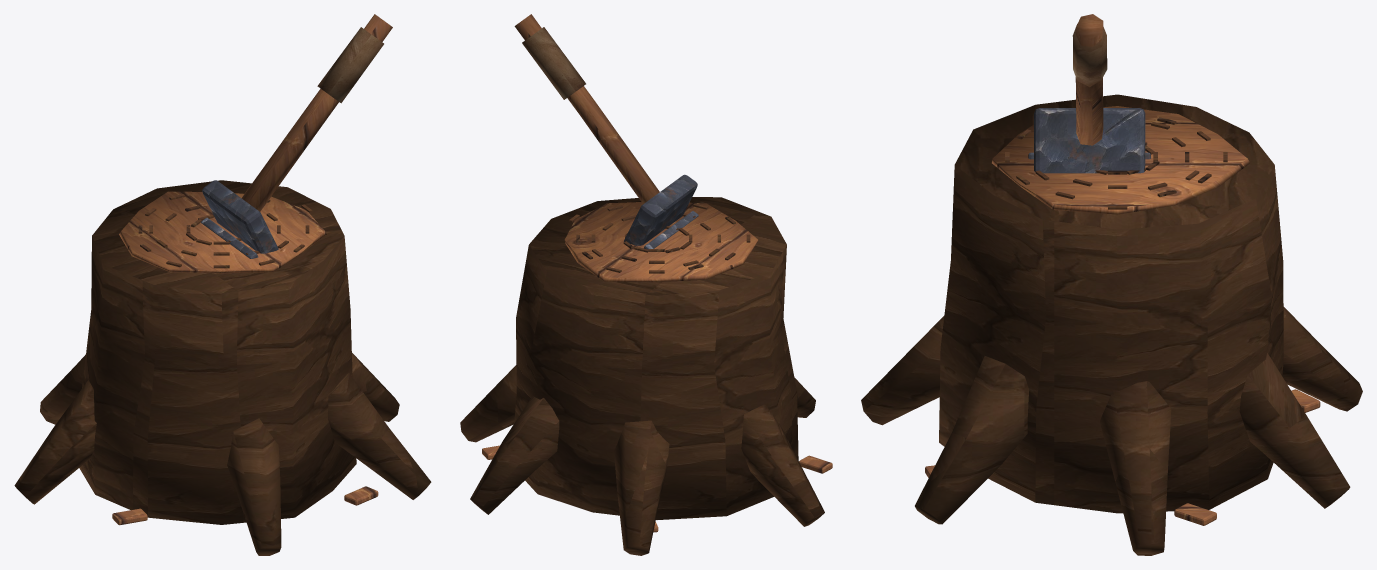
Rendered from chopping_block.glb.
3 renders of one model, left to right at view 1: azimuth 30°, elevation 25°; view 2: azimuth 150°, elevation 25°; view 3: azimuth 270°, elevation 25°, orthographic. The views are drawn at different scales.
Parts seen in each view (by area): view 1: model; view 2: model; view 3: model.
Part boxes in pixels (x1,y1,x2,y2): model: (14,14,431,555); model: (460,14,832,555); model: (861,14,1362,555).
Size of the model in its own units: 0.9495 by 1.04 by 0.9004.
8 materials, 8 textured.
